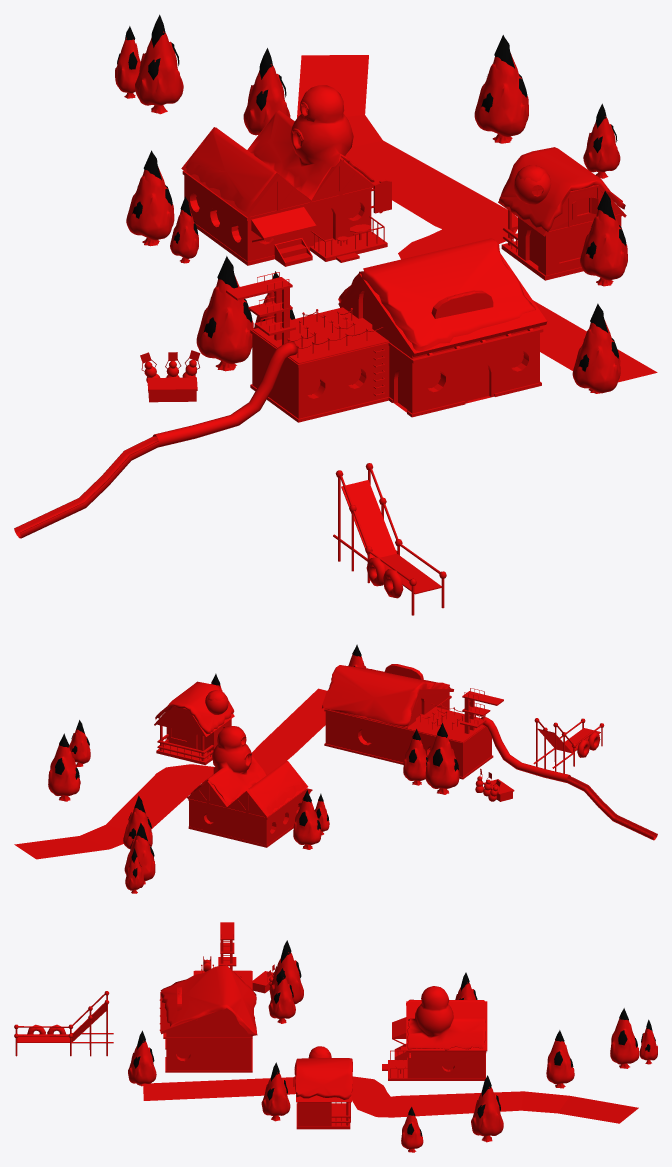
The model's file is Neighborhood_PudgyPort_02.glb.
3 views of the same model, one above another, from view 1: azimuth 30°, elevation 25°; view 2: azimuth 150°, elevation 25°; view 3: azimuth 270°, elevation 25° (orthographic). The views are drawn at different scales.
Parts seen in each view (by area): view 1: polySurface129, Building_FishMarket2Roofs, Object_PudgyPortRoad, Object_Dock, Building_FlatRooftopHouse, Building_House_FlatRoofIgloo1, Foliage_TreeSnow8, Foliage_TreeSnow6, Foliage_TreeSnow3, Foliage_TreeSnow, Foliage_TreeSnow5, Foliage_TreeSnow10 (+6 smaller); view 2: polySurface129, Building_FishMarket2Roofs, Object_PudgyPortRoad, Building_FlatRooftopHouse, Building_House_FlatRoofIgloo1, Object_Dock, Foliage_TreeSnow8, Foliage_TreeSnow6, Foliage_TreeSnow, Foliage_TreeSnow9, Foliage_TreeSnow3, Foliage_TreeSnow2 (+2 smaller); view 3: polySurface129, Object_PudgyPortRoad, Building_FishMarket2Roofs, Building_House_FlatRoofIgloo1, Building_FlatRooftopHouse, Object_Dock, Foliage_TreeSnow6, Foliage_TreeSnow3, Foliage_TreeSnow2, Foliage_TreeSnow5, Foliage_TreeSnow10, Foliage_TreeSnow8 (+3 smaller).
Part boxes in pixels (box(x1,y1,x2,y2)): polySurface129: box(14, 238, 547, 538); Building_FishMarket2Roofs: box(181, 85, 387, 266); Object_PudgyPortRoad: box(297, 55, 657, 382); Object_Dock: box(333, 463, 446, 615); Building_FlatRooftopHouse: box(498, 185, 626, 280); Building_House_FlatRoofIgloo1: box(499, 147, 625, 231); Foliage_TreeSnow8: box(196, 256, 253, 371); Foliage_TreeSnow6: box(474, 35, 528, 143); Foliage_TreeSnow3: box(135, 14, 183, 114); Foliage_TreeSnow: box(126, 150, 174, 246); Foliage_TreeSnow5: box(580, 191, 627, 286); Foliage_TreeSnow10: box(572, 303, 620, 393); polySurface129: box(321, 664, 657, 840); Building_FishMarket2Roofs: box(187, 726, 312, 847); Object_PudgyPortRoad: box(14, 688, 326, 859); Building_FlatRooftopHouse: box(154, 706, 234, 765); Building_House_FlatRoofIgloo1: box(155, 681, 234, 733); Object_Dock: box(533, 718, 604, 773); Foliage_TreeSnow8: box(425, 723, 459, 794); Foliage_TreeSnow6: box(48, 733, 80, 801); Foliage_TreeSnow: box(293, 790, 321, 849); Foliage_TreeSnow9: box(403, 729, 427, 785); Foliage_TreeSnow3: box(124, 823, 155, 884); Foliage_TreeSnow2: box(123, 795, 152, 849); polySurface129: box(159, 922, 257, 1072); Object_PudgyPortRoad: box(143, 1076, 638, 1123); Building_FishMarket2Roofs: box(382, 986, 487, 1080); Building_House_FlatRoofIgloo1: box(294, 1046, 352, 1099); Building_FlatRooftopHouse: box(293, 1062, 351, 1129); Object_Dock: box(14, 991, 113, 1056); Foliage_TreeSnow6: box(471, 1075, 503, 1142); Foliage_TreeSnow3: box(610, 1008, 639, 1068); Foliage_TreeSnow2: box(546, 1030, 574, 1088); Foliage_TreeSnow5: box(261, 1062, 290, 1121); Foliage_TreeSnow10: box(128, 1030, 156, 1086); Foliage_TreeSnow8: box(269, 940, 303, 1004).
Size of the model in its own units: 38.75 by 10.56 by 45.79.
